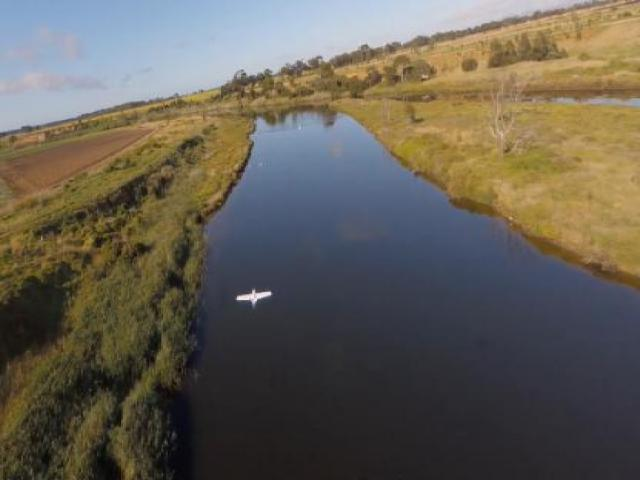uav: (234, 284, 272, 308)
